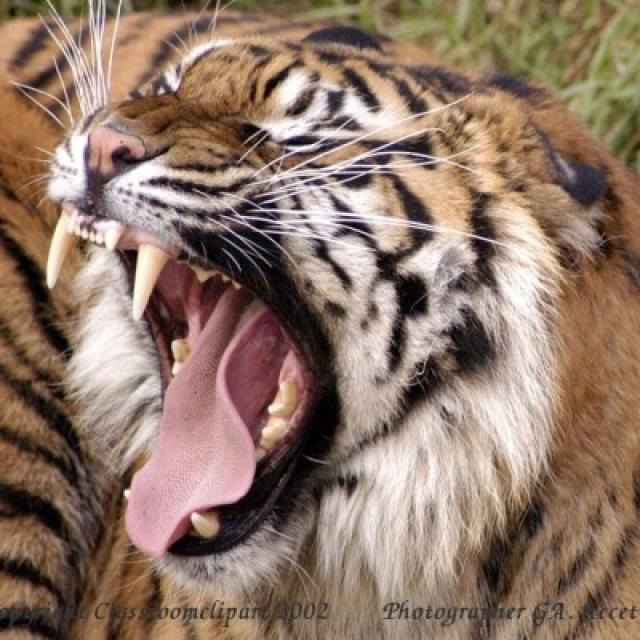Tiger: (0, 11, 638, 638)
